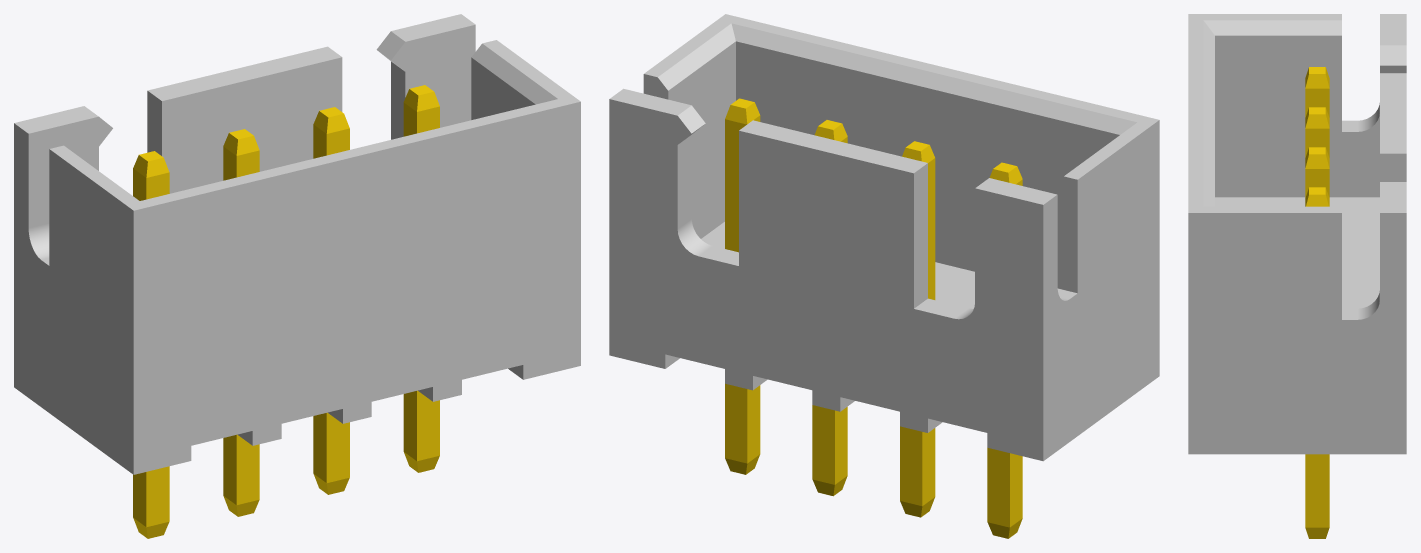
3 views of the same model, side by side, from view 1: azimuth 30°, elevation 25°; view 2: azimuth 150°, elevation 25°; view 3: azimuth 270°, elevation 25° (orthographic). The views are drawn at different scales.
Visible parts, largest first — view 1: BxB-XH-A; view 2: BxB-XH-A; view 3: BxB-XH-A.
Boxes of the visible parts, left/top/right/bottom form: BxB-XH-A: left=14, top=14, right=580, bottom=538; BxB-XH-A: left=609, top=14, right=1159, bottom=538; BxB-XH-A: left=1188, top=14, right=1406, bottom=538.
Bounding box in the file's own units: 0.0124 × 0.0105 × 0.00575.
